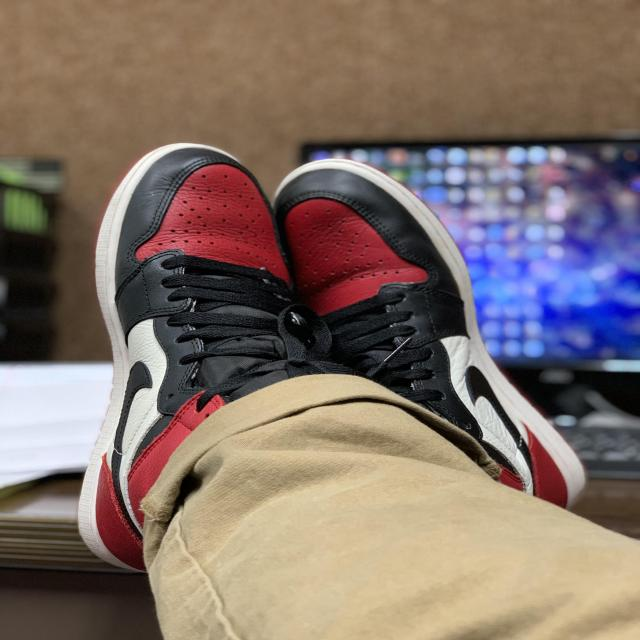shoe: (268, 158, 592, 516), (70, 141, 314, 571)
